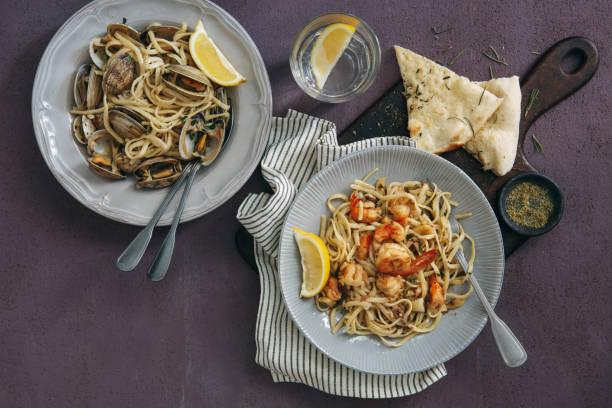Braised Crucian Carp: (30, 1, 267, 228), (279, 146, 502, 374)
